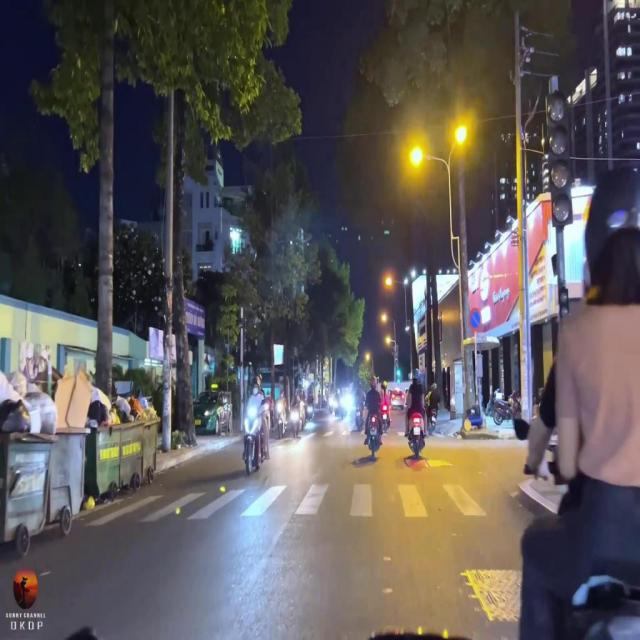cam_do_xe: (468, 304, 482, 334)
